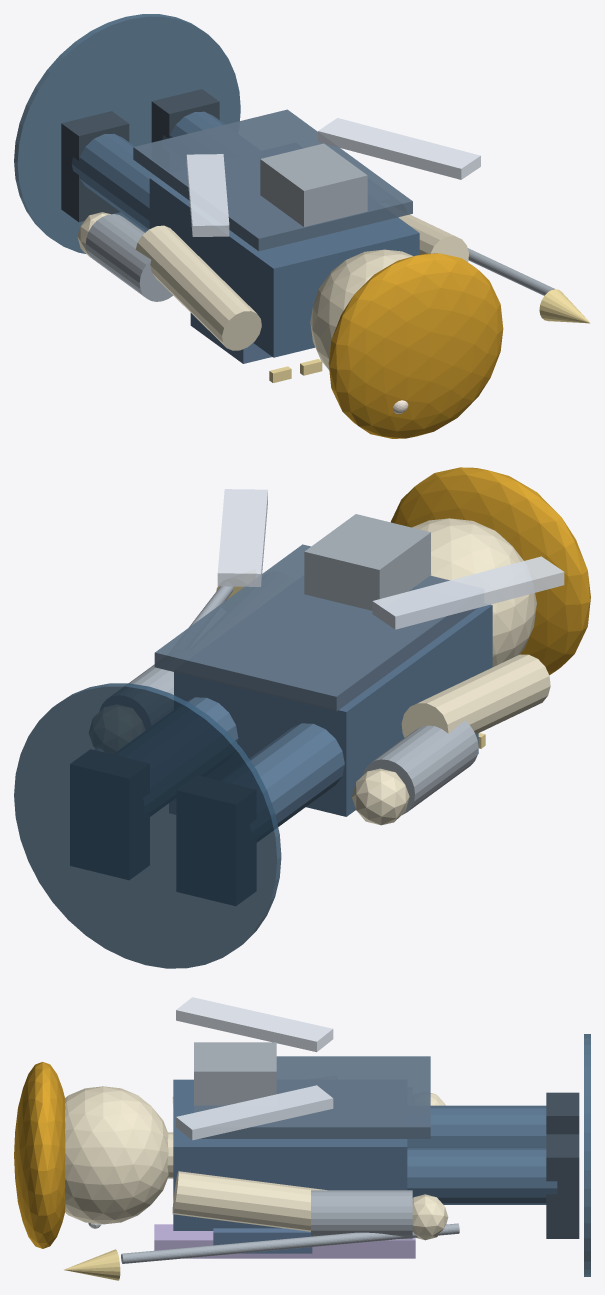
Rendered from SW_NPC_022_vexa_sparkline.glb.
3 renders of one model, top to bottom at view 1: azimuth 30°, elevation 25°; view 2: azimuth 150°, elevation 25°; view 3: azimuth 270°, elevation 25°, orthographic. The views are drawn at different scales.
Parts seen in each view (by area): view 1: mycelian_cap, round_base_plate, torso_uniform, storm_cloak, wingpack_core, left_upper_arm, left_leg, right_wing_rig, head, left_forearm_gauntlet, left_boot, left_wing_rig (+6 smaller); view 2: round_base_plate, storm_cloak, torso_uniform, mycelian_cap, wingpack_core, head, left_upper_arm, left_wing_rig, left_leg, left_forearm_gauntlet, right_wing_rig, left_hand (+2 smaller); view 3: torso_uniform, head, storm_cloak, mycelian_cap, right_leg, right_upper_arm, left_leg, wingpack_core, right_forearm_gauntlet, right_wing_rig, left_wing_rig, rank_sash (+7 smaller).
Part boxes in pixels (<box>): mycelian_cap: <box>328,253,503,438</box>; round_base_plate: <box>14,14,240,253</box>; torso_uniform: <box>149,176,419,357</box>; storm_cloak: <box>133,109,412,251</box>; wingpack_core: <box>260,143,367,226</box>; left_upper_arm: <box>135,225,261,350</box>; left_leg: <box>71,133,155,230</box>; right_wing_rig: <box>318,118,480,179</box>; head: <box>310,249,413,369</box>; left_forearm_gauntlet: <box>85,214,172,301</box>; left_boot: <box>61,111,129,222</box>; left_wing_rig: <box>186,154,229,236</box>; round_base_plate: <box>14,683,281,968</box>; storm_cloak: <box>154,544,477,711</box>; torso_uniform: <box>174,604,492,816</box>; mycelian_cap: <box>391,467,590,675</box>; wingpack_core: <box>304,514,430,610</box>; head: <box>412,518,536,666</box>; left_upper_arm: <box>401,654,550,737</box>; left_wing_rig: <box>372,556,564,629</box>; left_leg: <box>249,723,344,826</box>; left_forearm_gauntlet: <box>362,720,478,814</box>; right_wing_rig: <box>217,489,267,586</box>; left_hand: <box>352,768,409,825</box>; torso_uniform: <box>173,1079,407,1230</box>; head: <box>65,1086,168,1224</box>; storm_cloak: <box>194,1056,430,1138</box>; mycelian_cap: <box>14,1062,65,1248</box>; right_leg: <box>407,1147,557,1204</box>; right_upper_arm: <box>172,1171,326,1231</box>; left_leg: <box>407,1105,546,1147</box>; wingpack_core: <box>194,1042,276,1105</box>; right_forearm_gauntlet: <box>311,1190,412,1239</box>; right_wing_rig: <box>176,1085,333,1140</box>; left_wing_rig: <box>176,997,333,1052</box>; rank_sash: <box>154,1224,415,1258</box>.
Size of the model in its own units: 1.26 by 0.84 by 1.99.
